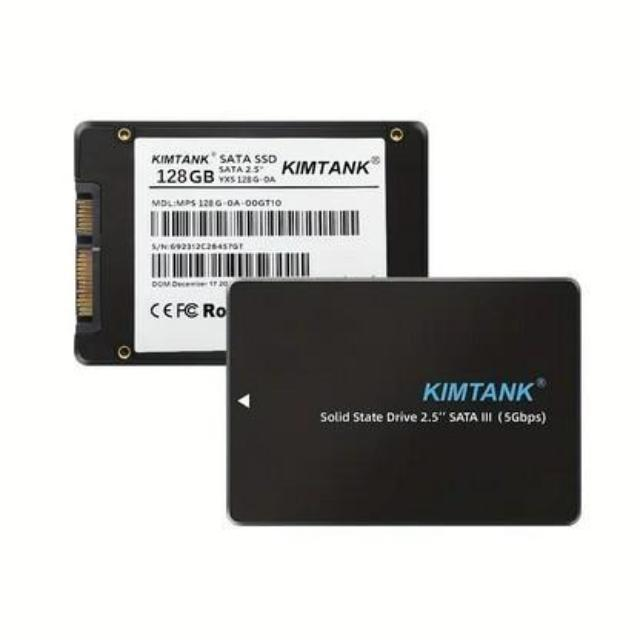DISK: (62, 110, 436, 372), (221, 274, 590, 534)
